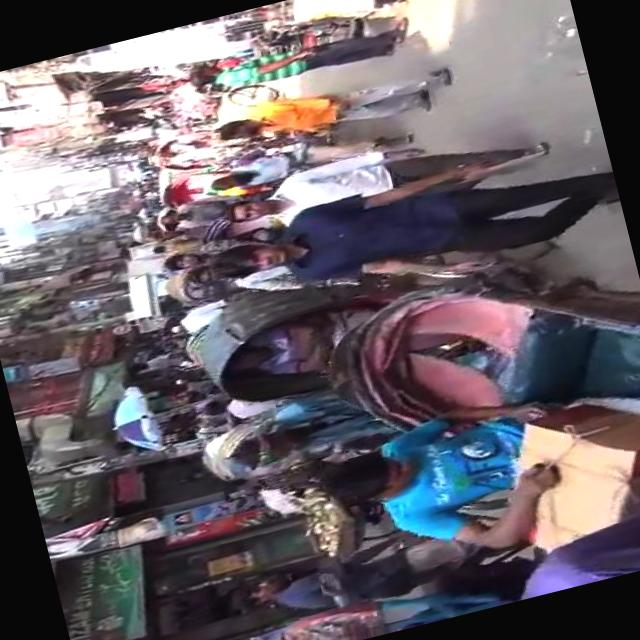motorcycle: (308, 232, 640, 512), (184, 252, 448, 420), (257, 565, 516, 640), (186, 402, 314, 492), (146, 116, 265, 184), (155, 160, 250, 215), (157, 262, 228, 311), (116, 270, 166, 324), (173, 324, 212, 372)
